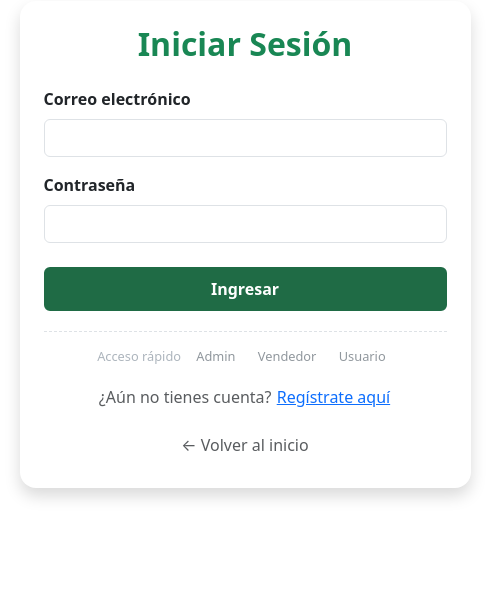
it: Login › el acceso rápido muestra el error si el backend rechaza la cuenta
Click the button "Admin" at point(216, 356), box [189,344,243,368]
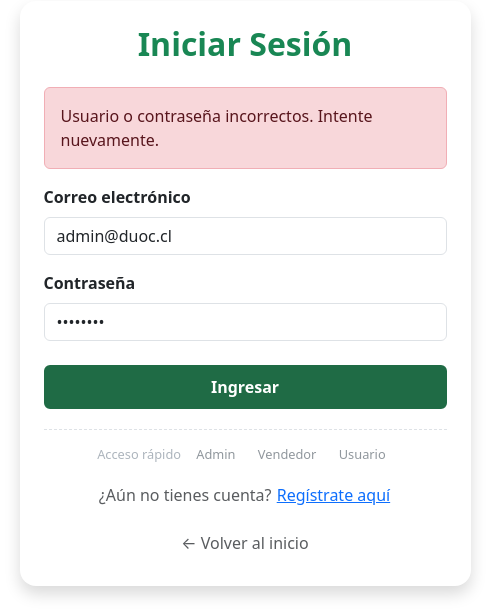
Result: the text "Usuario o contraseña incorrectos. Intente nuevamente." is shown at [44,87,446,169]
